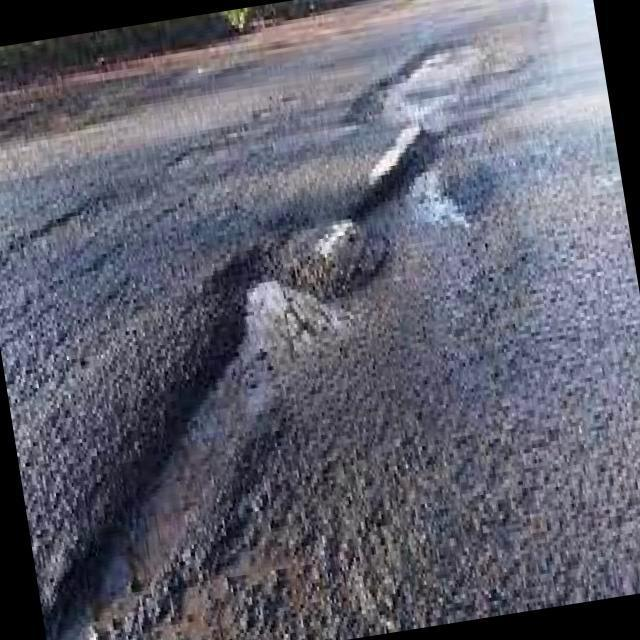Pothole: (41, 252, 352, 640), (373, 44, 488, 129), (390, 154, 471, 222), (327, 220, 369, 254)
